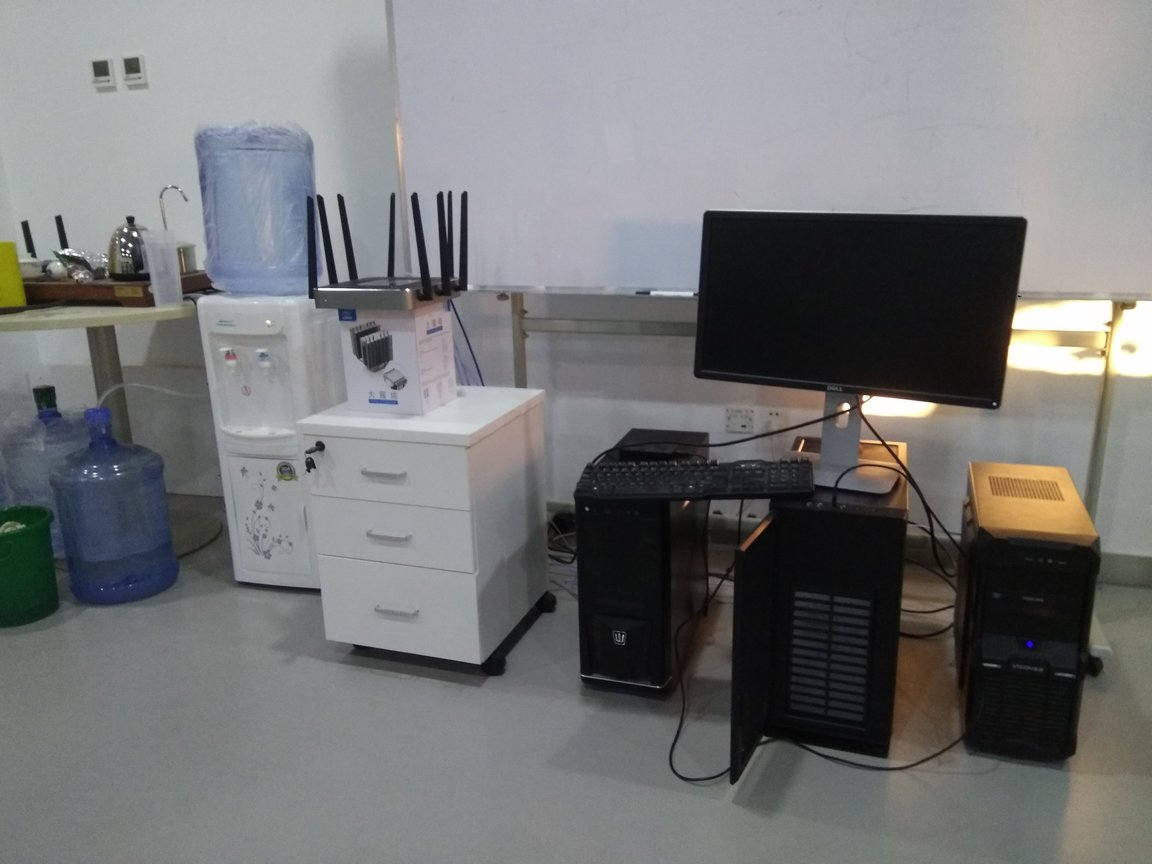computer: (737, 437, 918, 795), (573, 422, 718, 723), (962, 460, 1093, 769)
drawer chest: (299, 385, 550, 680)
monitor: (692, 198, 1023, 501)
scuttlebutt: (59, 407, 183, 612), (196, 119, 325, 295), (1, 385, 109, 569)
water dispenser: (195, 285, 363, 599)
